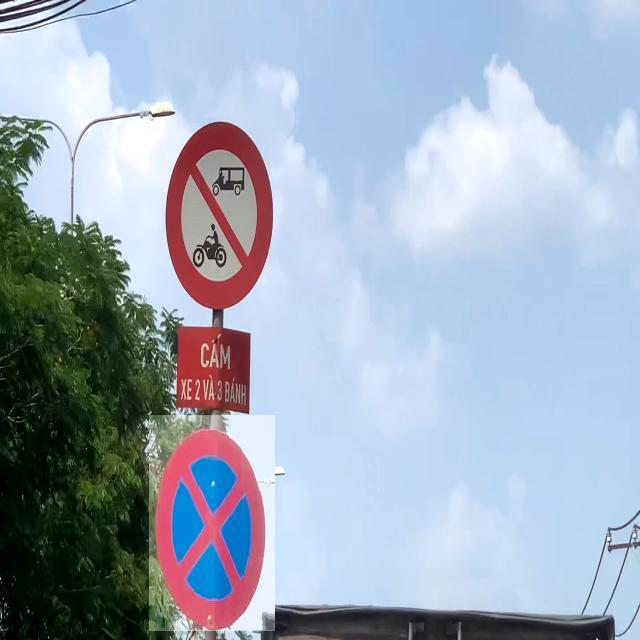P-130: (149, 416, 275, 632)
